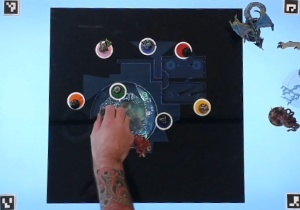blue: (137, 36, 159, 59)
green: (108, 81, 130, 101)
orange: (65, 90, 86, 110)
pink: (92, 39, 115, 59)
red: (173, 40, 195, 61)
violet: (153, 109, 174, 131)
yellow: (191, 97, 213, 116)
